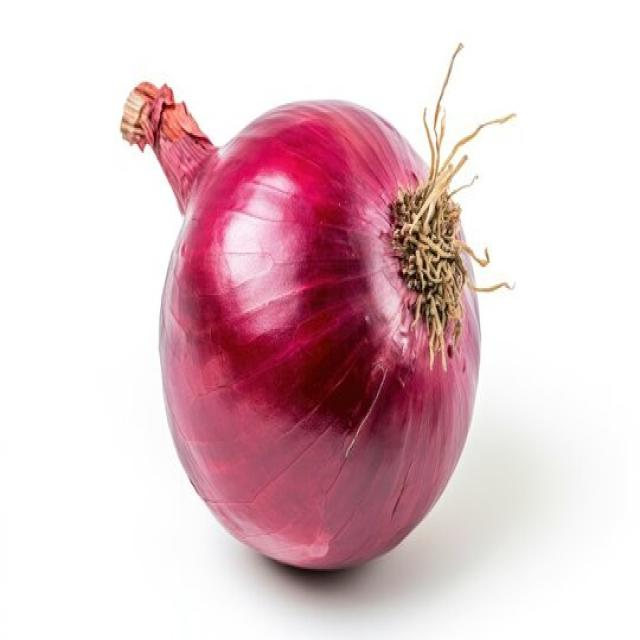Onion: (118, 42, 516, 572)
